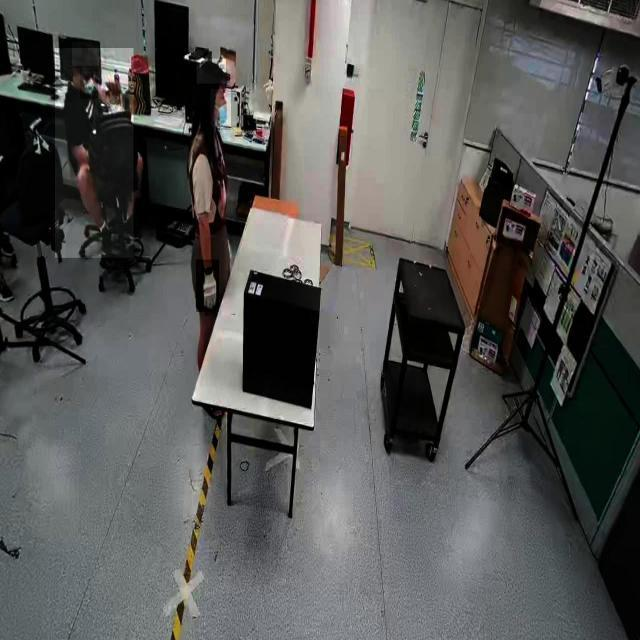gloves: (196, 259, 220, 313)
